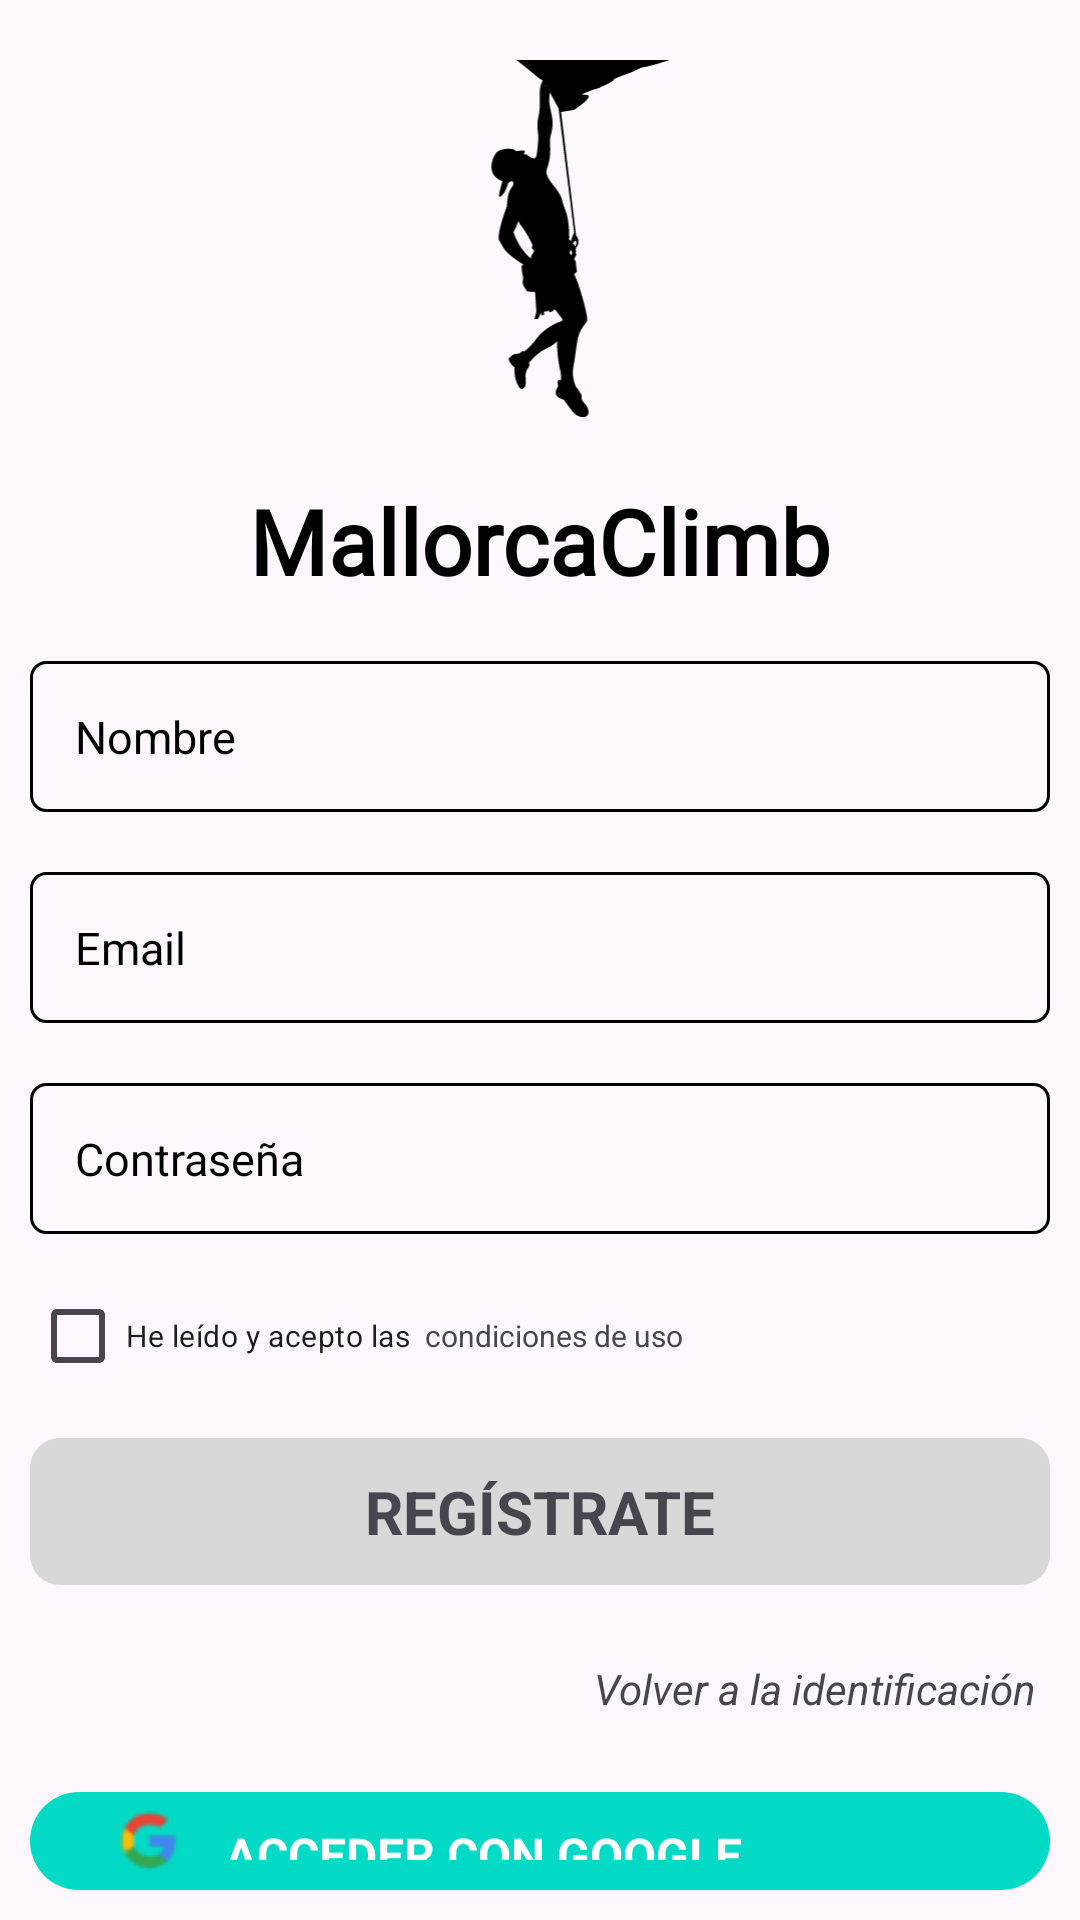

Point at icon controls on the screen. Image size 1080px x 1920px, points as (x,y).
climber: (580,238)
